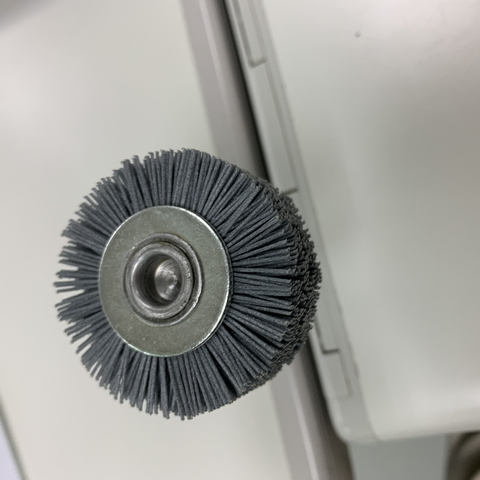Wheel Brush: (55, 140, 334, 429), (88, 158, 318, 421)
